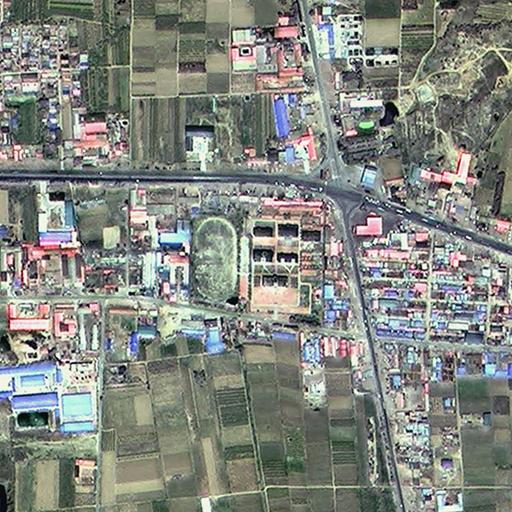school: (188, 215, 325, 312)
